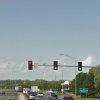Traffic light: (18, 47, 88, 79)
